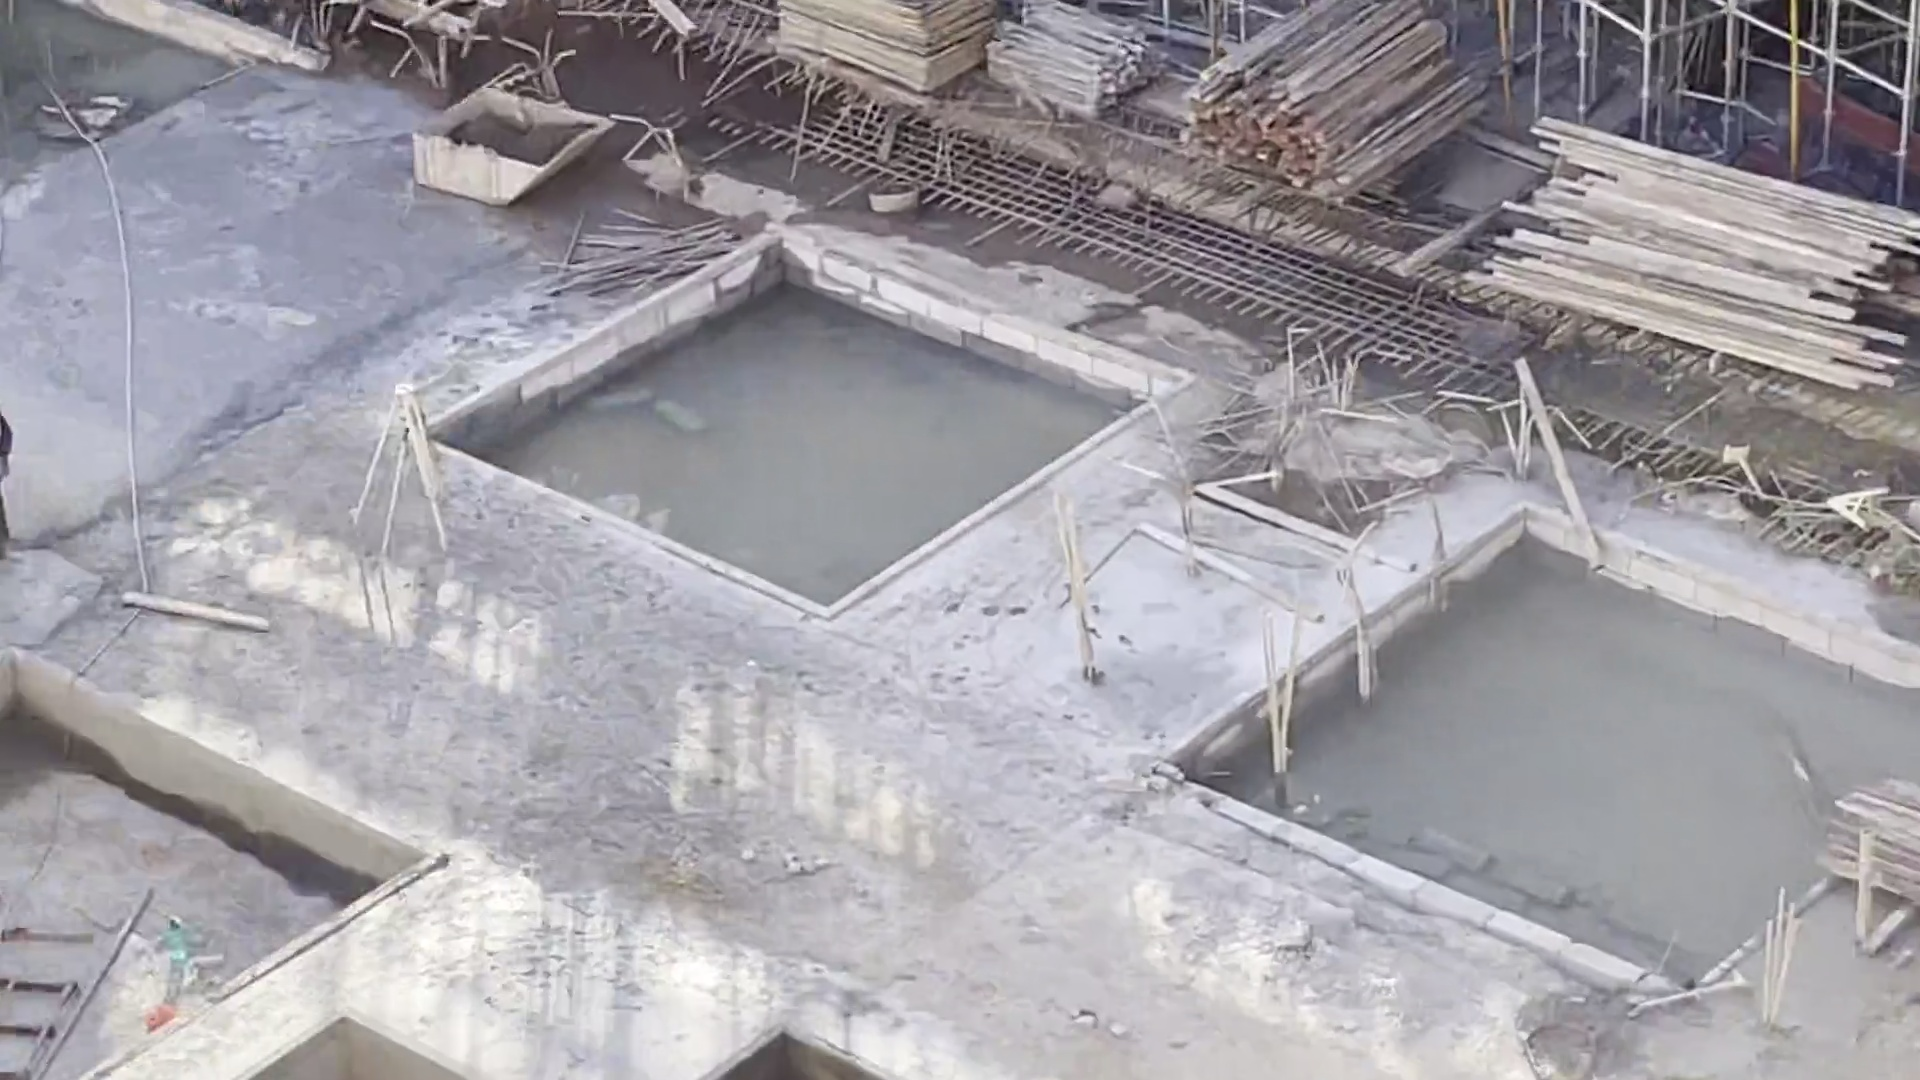board: (773, 1, 980, 98)
hopper: (404, 84, 601, 219)
wood: (1486, 115, 1920, 406), (1185, 7, 1464, 204), (978, 1, 1154, 135)
